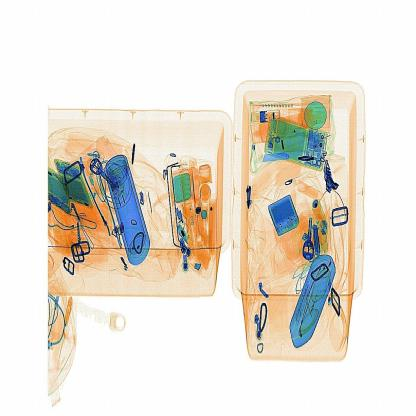pliers: (257, 148, 291, 169)
